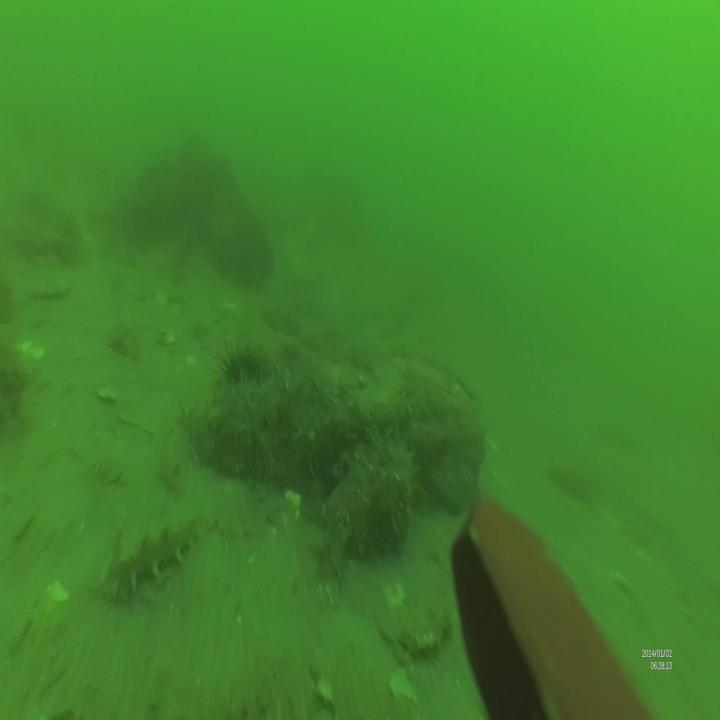echinus: (366, 413, 425, 517), (215, 332, 285, 393)
holothurian: (103, 516, 208, 604)
